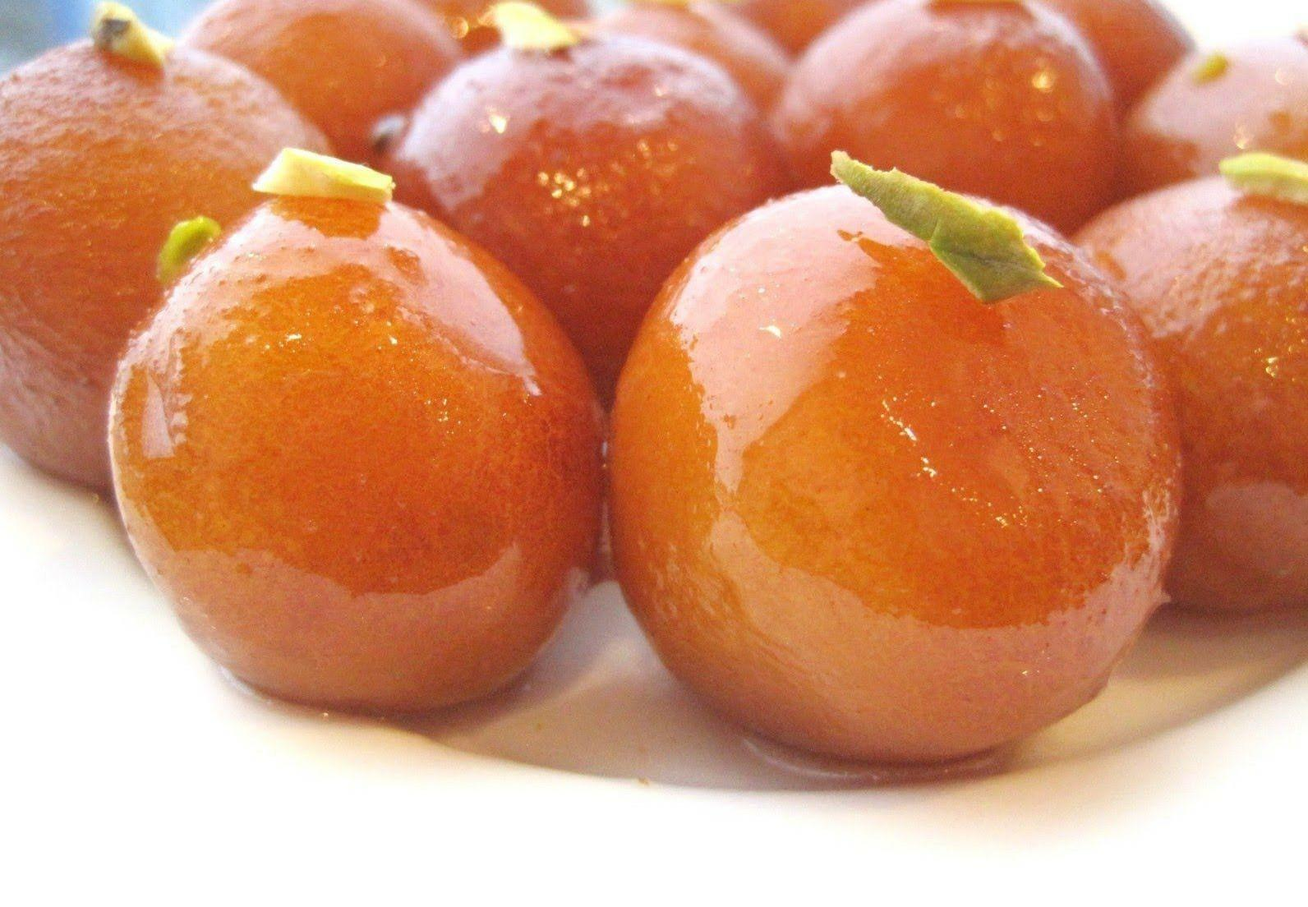GulabJamun: (611, 162, 1185, 770), (108, 148, 610, 716), (0, 8, 323, 487), (385, 18, 783, 290), (1079, 156, 1308, 616), (779, 0, 1116, 228), (165, 0, 465, 142)
